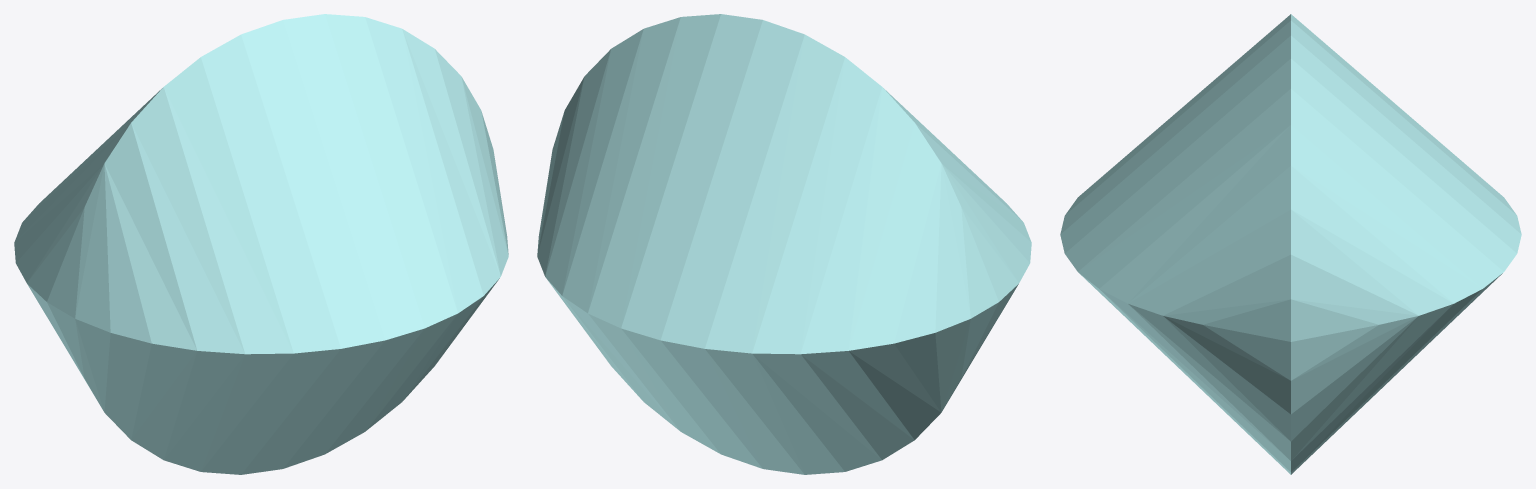
3 views of the same model, side by side, from view 1: azimuth 30°, elevation 25°; view 2: azimuth 150°, elevation 25°; view 3: azimuth 270°, elevation 25° (orthographic). The views are drawn at different scales.
Bounding box in the file's own units: 2.1 × 2 × 2.
